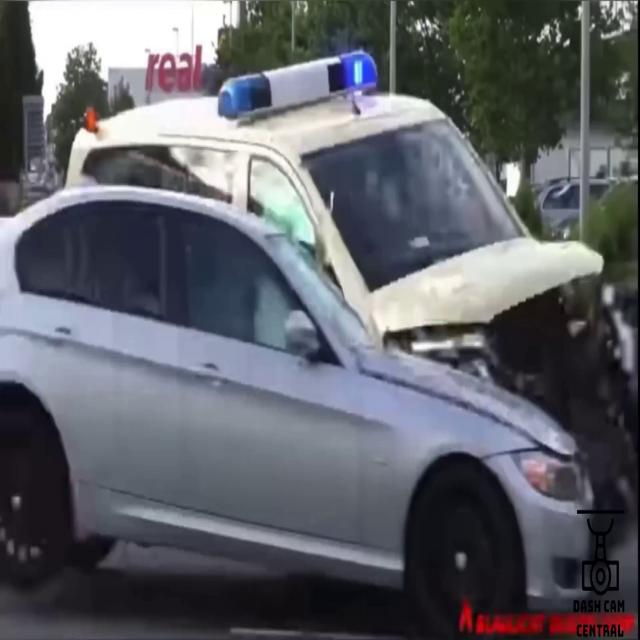accident: (0, 39, 621, 580)
